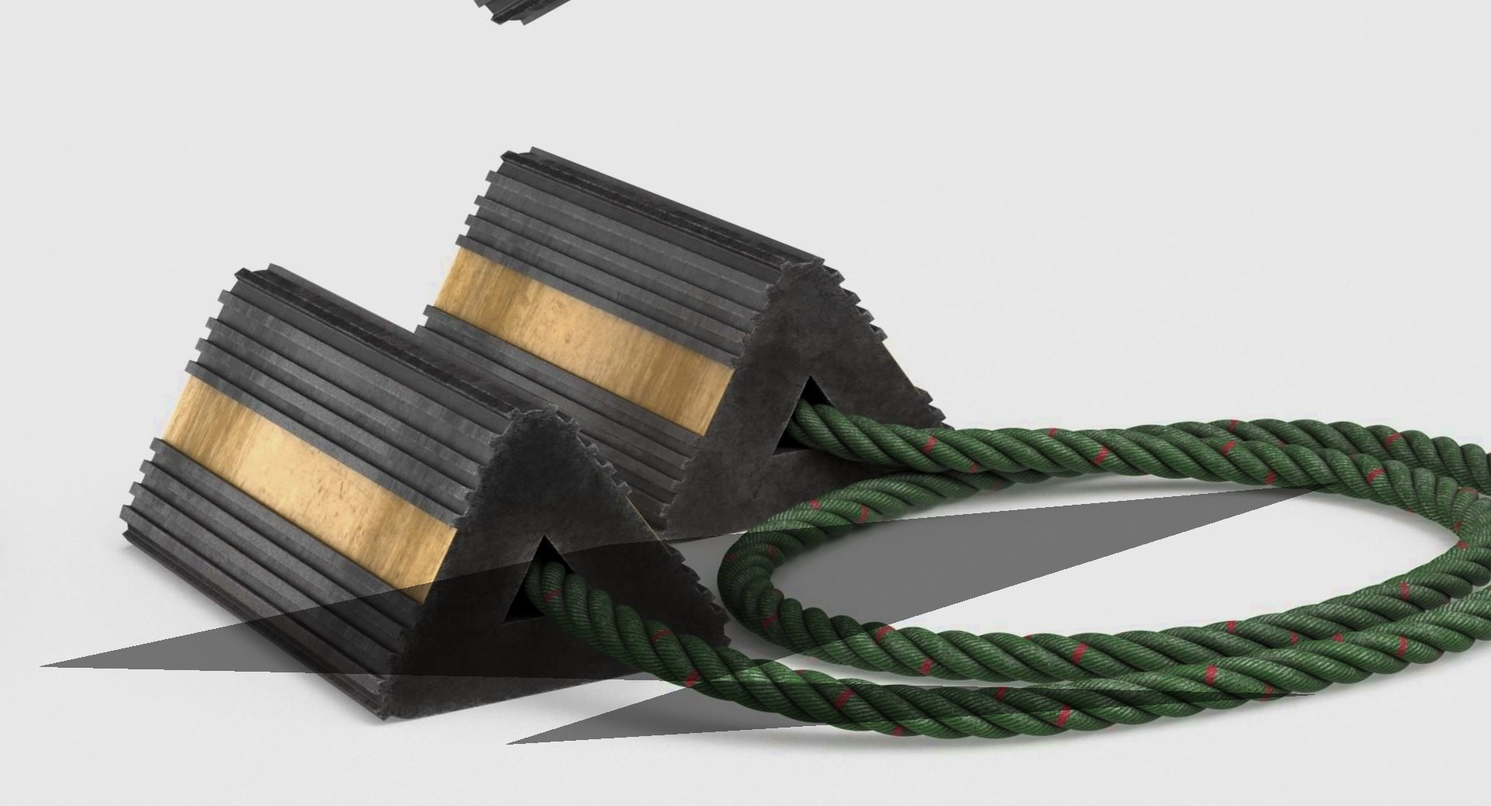chock: (99, 225, 735, 740), (401, 118, 981, 563)
